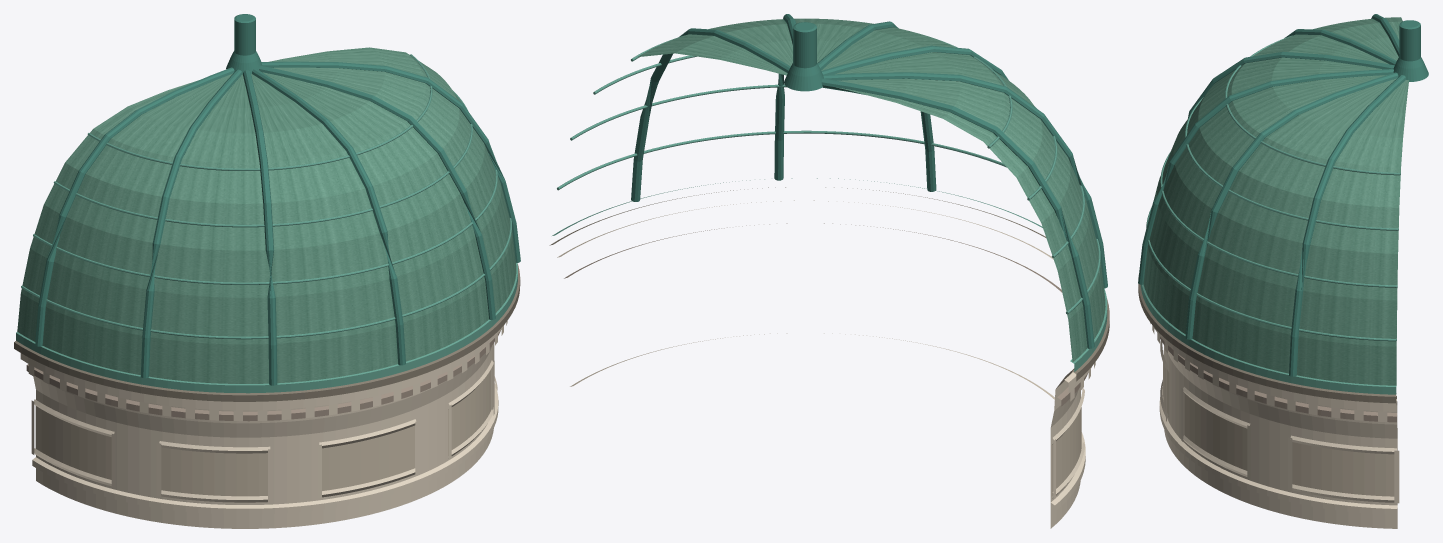
The model's file is zhang-garden-no77-ribbed-cupola-near.glb.
3 renders of one model, left to right at view 1: azimuth 30°, elevation 25°; view 2: azimuth 150°, elevation 25°; view 3: azimuth 270°, elevation 25°, orthographic. The views are drawn at different scales.
Visible parts, largest first — view 1: 张园威海路590弄77号绿肋圆顶与石饰鼓座; view 2: 张园威海路590弄77号绿肋圆顶与石饰鼓座; view 3: 张园威海路590弄77号绿肋圆顶与石饰鼓座.
Boxes of the visible parts, x1,y1,x2,y2 form: 张园威海路590弄77号绿肋圆顶与石饰鼓座: (14, 14, 520, 528); 张园威海路590弄77号绿肋圆顶与石饰鼓座: (549, 14, 1109, 528); 张园威海路590弄77号绿肋圆顶与石饰鼓座: (1138, 14, 1428, 528).
Size of the model in its own units: 3.3 by 2.69 by 1.77.
Materials: 7 (1 with a texture image).
